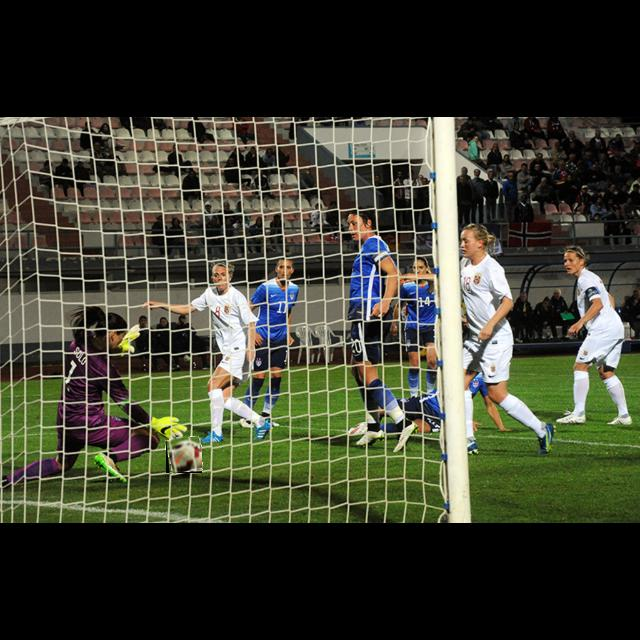Football: (166, 437, 202, 473)
